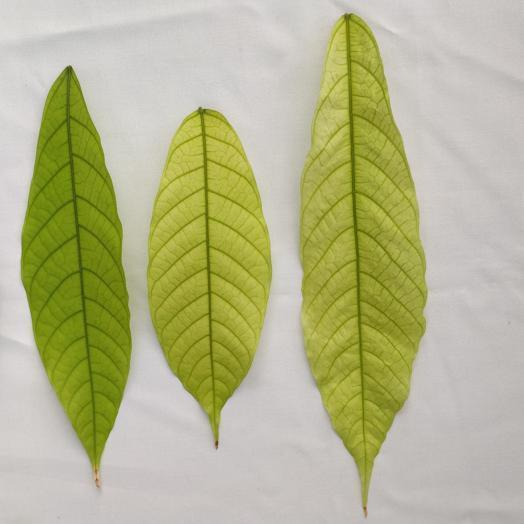Iron: (301, 14, 426, 516), (22, 66, 129, 486), (148, 108, 271, 443)
